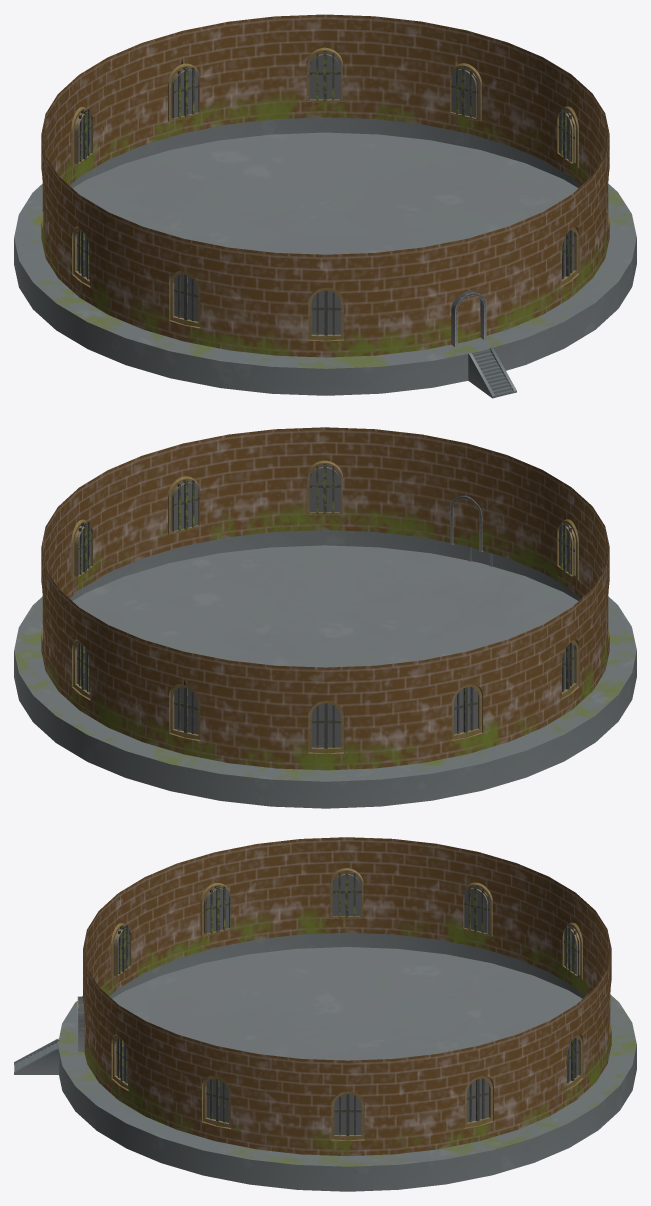
File: Tower01.fbx
3 views of the same model, one above another, from view 1: azimuth 30°, elevation 25°; view 2: azimuth 150°, elevation 25°; view 3: azimuth 270°, elevation 25° (orthographic). The views are drawn at different scales.
Parts seen in each view (by area): view 1: tower01_low, stair_low, gate_Low; view 2: tower01_low; view 3: tower01_low, stair_low.
Part boxes in pixels (box(x1,y1,x2,y2)): tower01_low: box(14, 14, 636, 395); stair_low: box(468, 347, 516, 398); gate_Low: box(451, 290, 486, 346); tower01_low: box(14, 427, 636, 808); tower01_low: box(57, 837, 636, 1191); stair_low: box(14, 1038, 59, 1074).
Size of the model in its own units: 5610 by 1289 by 6033.
Materials: 3 (3 with a texture image).
